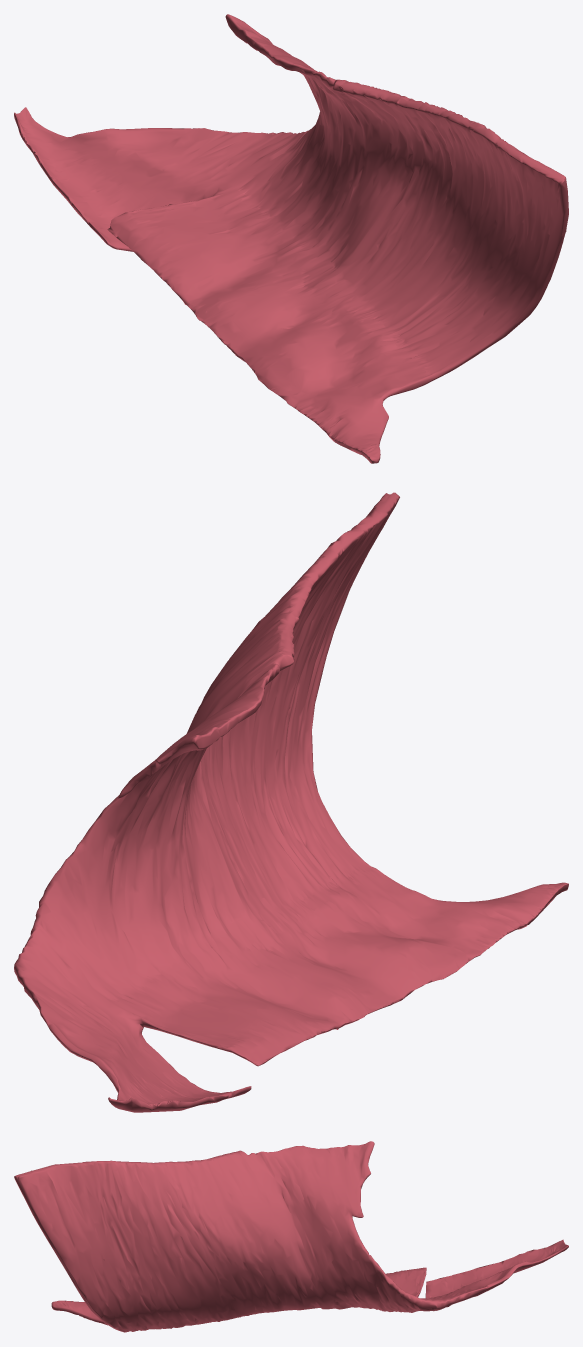
3 views of the same model, one above another, from view 1: azimuth 30°, elevation 25°; view 2: azimuth 150°, elevation 25°; view 3: azimuth 270°, elevation 25° (orthographic). The views are drawn at different scales.
Visible parts, largest first — view 1: 左侧腹横肌; view 2: 左侧腹横肌; view 3: 左侧腹横肌.
Part boxes in pixels (x1,y1,x2,y2): 左侧腹横肌: (14,14,568,463); 左侧腹横肌: (14,492,568,1112); 左侧腹横肌: (14,1141,568,1332).
Bounding box in the file's own units: 0.1909 × 0.2467 × 0.6205.
